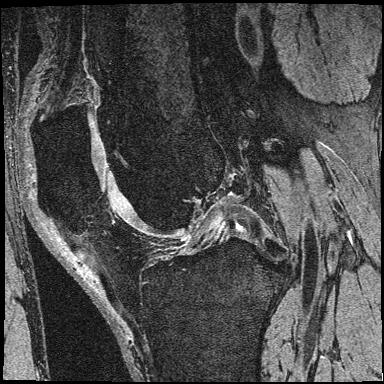SagKneeJointArea: (30, 100, 292, 337)
